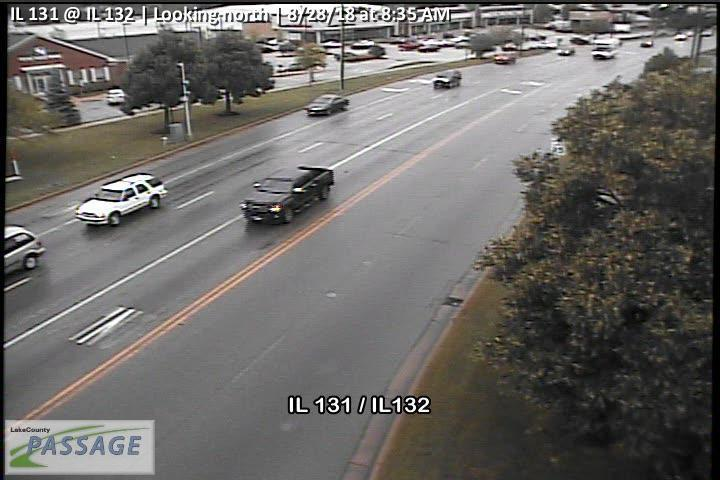SUV: (74, 173, 169, 226), (432, 69, 462, 88), (591, 43, 618, 59)
Sedan: (305, 93, 350, 117), (493, 53, 517, 65), (570, 34, 591, 44), (556, 45, 575, 56), (640, 39, 654, 47)
Truck: (239, 165, 336, 226)
